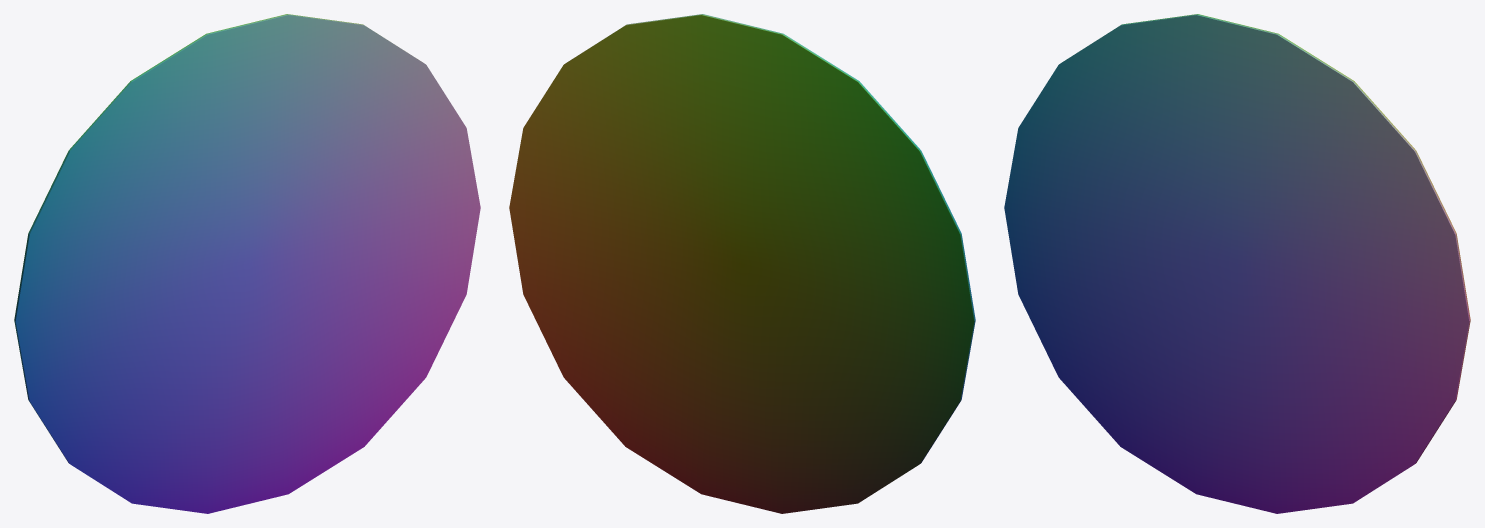
Rendered from zeometry-flat-shapes-flat-oval_v13.glb.
3 views of the same model, side by side, from view 1: azimuth 30°, elevation 25°; view 2: azimuth 150°, elevation 25°; view 3: azimuth 330°, elevation 25° (orthographic).
Parts seen in each view (by area): view 1: Flat Oval_v13; view 2: Flat Oval_v13; view 3: Flat Oval_v13.
Part boxes in pixels (x1,y1,x2,y2): Flat Oval_v13: [14, 14, 480, 513]; Flat Oval_v13: [509, 14, 975, 513]; Flat Oval_v13: [1004, 14, 1470, 513].
Bounding box in the file's own units: 0.5 × 0.4924 × 0.0028.
